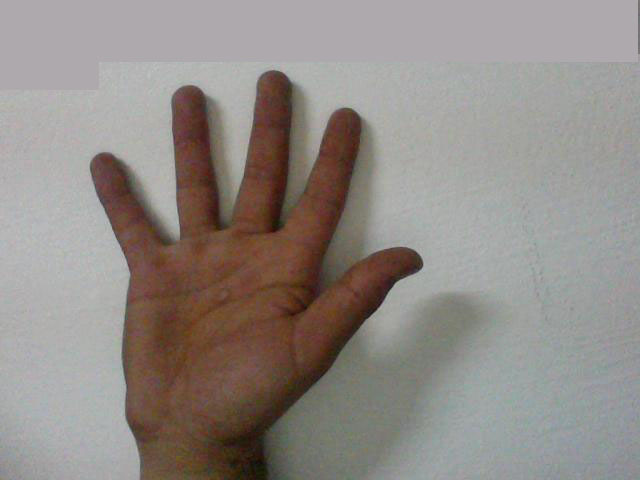hand: (81, 64, 438, 447)
